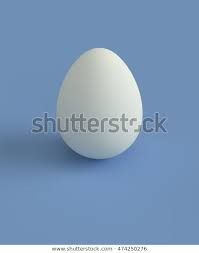egg: (56, 48, 143, 160)
